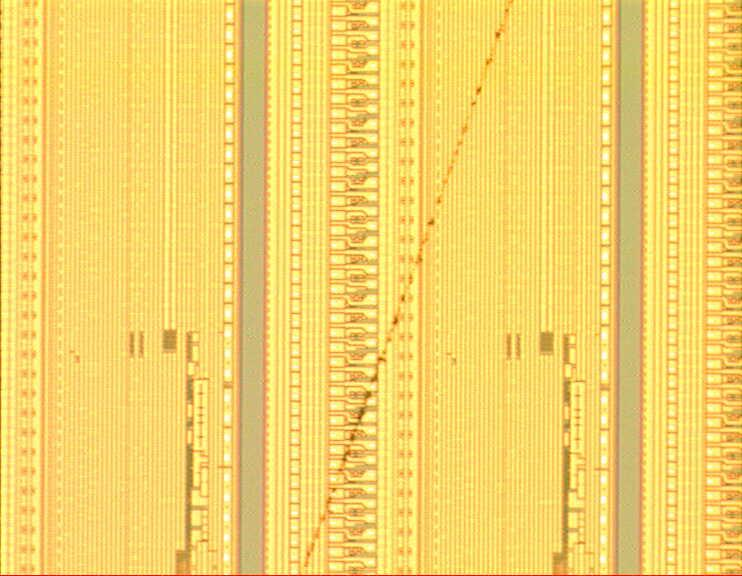SCRATCH: (291, 1, 526, 576)
